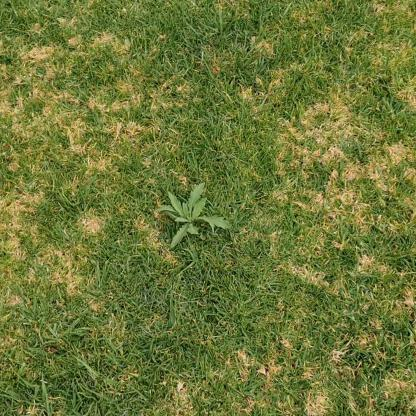Weeds: (157, 183, 233, 249)
